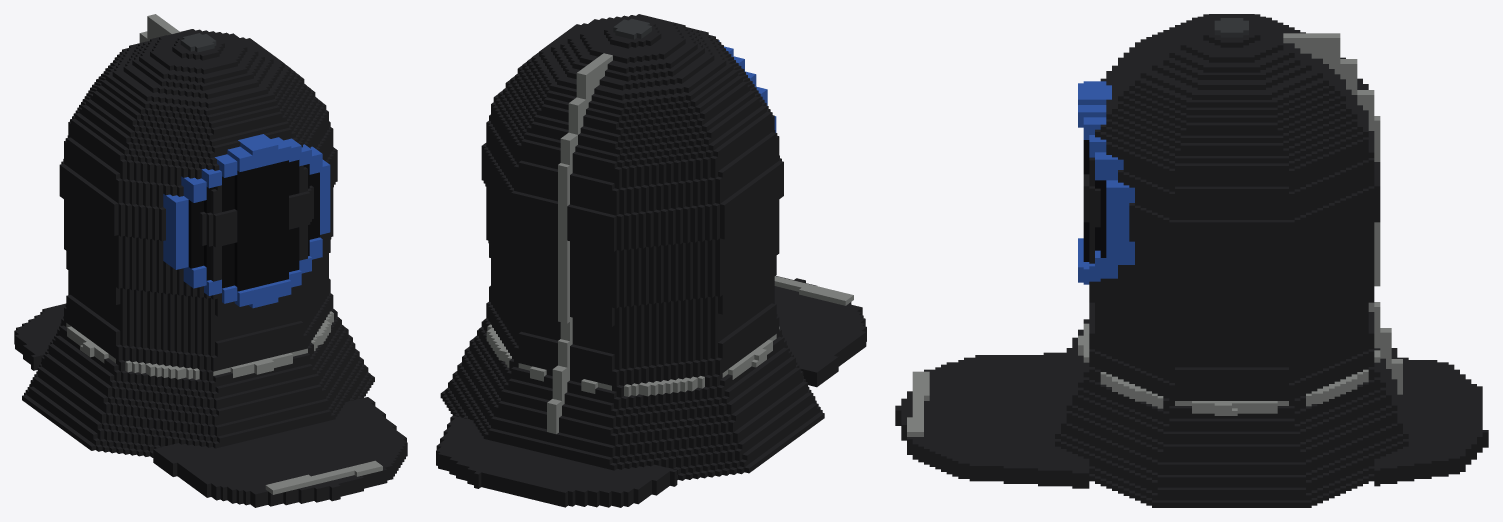
Rendered from wetsuit_hood_thick.glb.
3 renders of one model, left to right at view 1: azimuth 30°, elevation 25°; view 2: azimuth 150°, elevation 25°; view 3: azimuth 270°, elevation 25°, orthographic. The views are drawn at different scales.
Visible parts, largest first — view 1: wetsuit_hood_thick:compound; view 2: wetsuit_hood_thick:compound; view 3: wetsuit_hood_thick:compound.
Boxes of the visible parts, left/top/right/bottom form: wetsuit_hood_thick:compound: left=14, top=14, right=407, bottom=507; wetsuit_hood_thick:compound: left=436, top=14, right=866, bottom=507; wetsuit_hood_thick:compound: left=895, top=14, right=1488, bottom=507.
Size of the model in its own units: 0.264 by 0.312 by 0.416.
